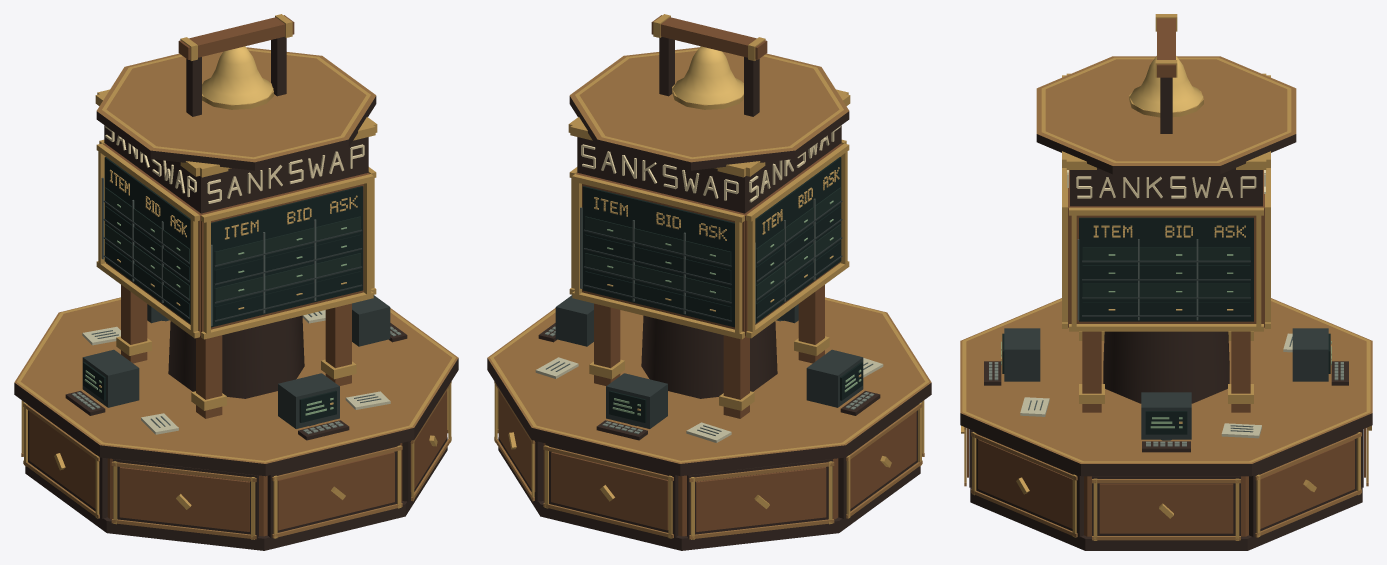
Rendered from central-post-v1.glb.
3 views of the same model, side by side, from view 1: azimuth 30°, elevation 25°; view 2: azimuth 150°, elevation 25°; view 3: azimuth 270°, elevation 25° (orthographic).
Parts seen in each view (by area): view 1: central-post; view 2: central-post; view 3: central-post.
Boxes of the visible parts, <box> form: central-post: <box>14,14,458,550</box>; central-post: <box>487,14,931,550</box>; central-post: <box>960,14,1372,550</box>.
Bounding box in the file's own units: 4.92 × 5.66 × 4.92.
